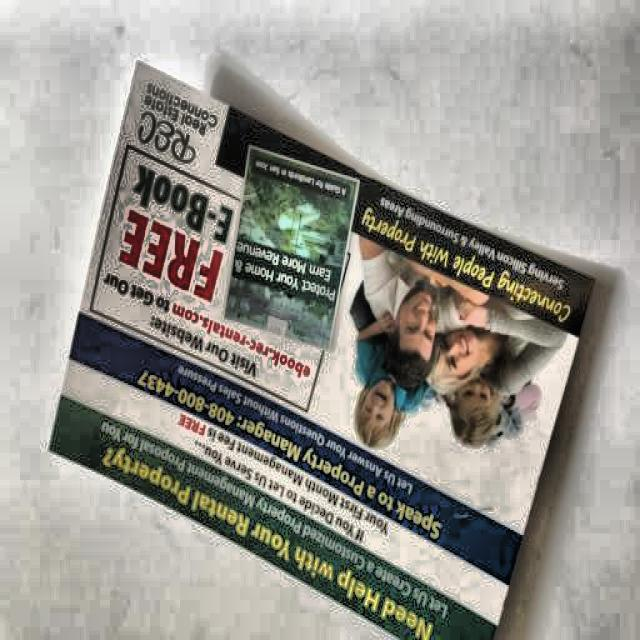paper: (70, 59, 591, 620)
